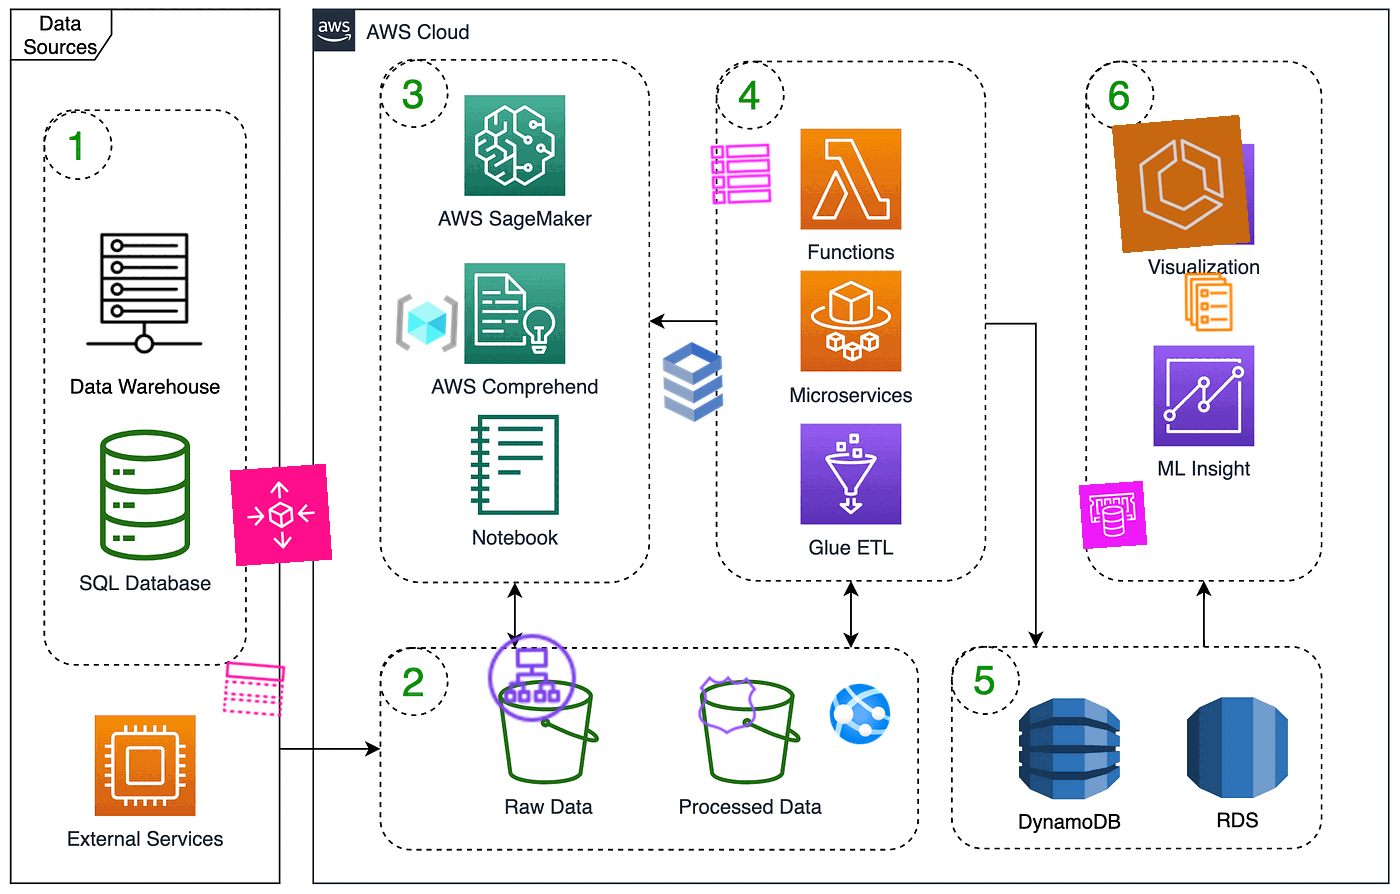aws_amazon_elastic_container_service: (1111, 114, 1251, 254)
aws_amazon_elasticache: (1078, 480, 1148, 550)
aws_auto_scaling: (229, 463, 333, 567)
aws_dynamodb_table: (707, 140, 776, 208)
aws_elastic_container_service_service: (1176, 269, 1242, 335)
aws_elastic_load_balancing_application_load_balancer: (483, 629, 581, 727)
aws_route_53_hosted_zone: (695, 672, 761, 738)
aws_simple_notification_service_topic: (219, 654, 289, 724)
azure_app_services: (824, 679, 895, 749)
azure_resource_groups: (393, 289, 461, 357)
gcp_cloud_sql: (643, 332, 743, 432)
